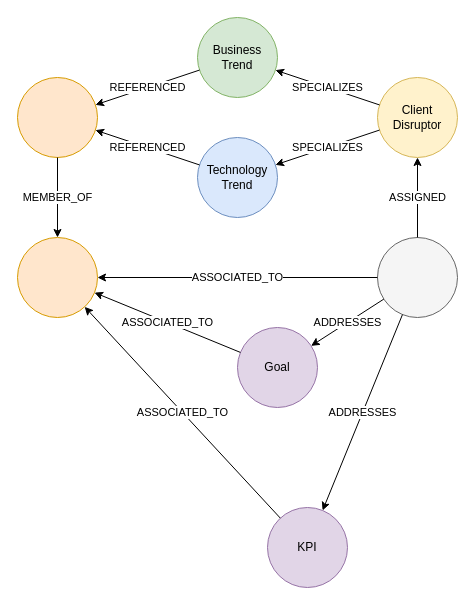
Image size: 475x605. Some labels were removed from this diagram. Here are the shapes that lost their labels. From the top down, the centre of each, then its label:
pixel 57 117: Workspace
pixel 57 277: Workspace Group
pixel 417 277: ClientIdea
